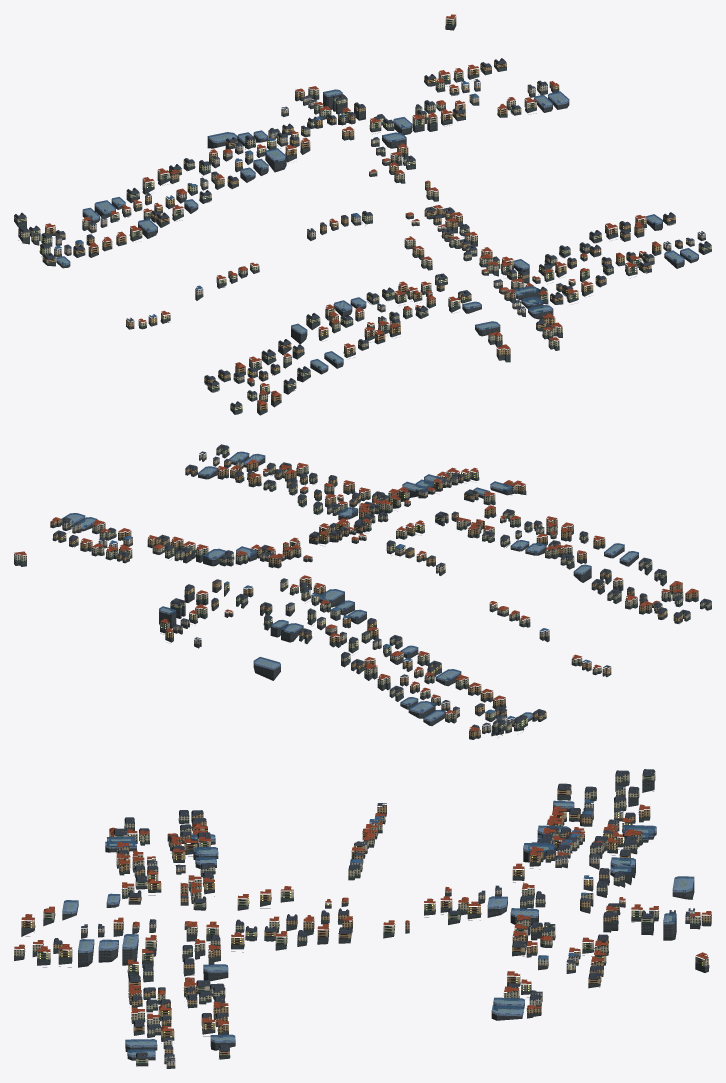
The model's file is osm_buildings_T_E02_S01_Q3.glb.
3 renders of one model, top to bottom at view 1: azimuth 30°, elevation 25°; view 2: azimuth 150°, elevation 25°; view 3: azimuth 270°, elevation 25°, orthographic. The views are drawn at different scales.
Visible parts, largest first — view 1: OSM_T_E02_S01_Q3_foundation, OSM_T_E02_S01_Q3_wall_cream_stucco, OSM_T_E02_S01_Q3_wall_french_ochre, OSM_T_E02_S01_Q3_greenhouse_blend, OSM_T_E02_S01_Q3_roof_terracotta, OSM_T_E02_S01_Q3_roof_mansard_slate, OSM_T_E02_S01_Q3_roof_mansard_deck, OSM_T_E02_S01_Q3_roof_mint_metal, OSM_T_E02_S01_Q3_balcony_railing, OSM_T_E02_S01_Q3_wall_warm_white, OSM_T_E02_S01_Q3_window_emissive_warm, OSM_T_E02_S01_Q3_wall_pastel_sand (+1 smaller); view 2: OSM_T_E02_S01_Q3_foundation, OSM_T_E02_S01_Q3_wall_cream_stucco, OSM_T_E02_S01_Q3_wall_french_ochre, OSM_T_E02_S01_Q3_roof_terracotta, OSM_T_E02_S01_Q3_greenhouse_blend, OSM_T_E02_S01_Q3_roof_mansard_slate, OSM_T_E02_S01_Q3_roof_mansard_deck, OSM_T_E02_S01_Q3_roof_mint_metal, OSM_T_E02_S01_Q3_wall_warm_white, OSM_T_E02_S01_Q3_wall_pastel_sand, OSM_T_E02_S01_Q3_window_emissive_warm, OSM_T_E02_S01_Q3_trim_cornice (+1 smaller); view 3: OSM_T_E02_S01_Q3_foundation, OSM_T_E02_S01_Q3_wall_cream_stucco, OSM_T_E02_S01_Q3_wall_french_ochre, OSM_T_E02_S01_Q3_roof_terracotta, OSM_T_E02_S01_Q3_greenhouse_blend, OSM_T_E02_S01_Q3_roof_mansard_slate, OSM_T_E02_S01_Q3_roof_mansard_deck, OSM_T_E02_S01_Q3_trim_cornice, OSM_T_E02_S01_Q3_roof_mint_metal, OSM_T_E02_S01_Q3_window_emissive_warm, OSM_T_E02_S01_Q3_wall_warm_white, OSM_T_E02_S01_Q3_balcony_railing (+1 smaller).
Boxes of the visible parts, bbox=[...] form: OSM_T_E02_S01_Q3_foundation: bbox=[14, 21, 711, 415]; OSM_T_E02_S01_Q3_wall_cream_stucco: bbox=[14, 16, 711, 410]; OSM_T_E02_S01_Q3_wall_french_ochre: bbox=[42, 60, 682, 410]; OSM_T_E02_S01_Q3_greenhouse_blend: bbox=[56, 89, 698, 370]; OSM_T_E02_S01_Q3_roof_terracotta: bbox=[45, 14, 660, 405]; OSM_T_E02_S01_Q3_roof_mansard_slate: bbox=[14, 58, 711, 406]; OSM_T_E02_S01_Q3_roof_mansard_deck: bbox=[15, 58, 710, 404]; OSM_T_E02_S01_Q3_roof_mint_metal: bbox=[14, 26, 710, 412]; OSM_T_E02_S01_Q3_balcony_railing: bbox=[14, 19, 702, 414]; OSM_T_E02_S01_Q3_wall_warm_white: bbox=[54, 80, 547, 322]; OSM_T_E02_S01_Q3_window_emissive_warm: bbox=[15, 64, 702, 408]; OSM_T_E02_S01_Q3_wall_pastel_sand: bbox=[88, 85, 705, 312]; OSM_T_E02_S01_Q3_foundation: bbox=[14, 451, 711, 739]; OSM_T_E02_S01_Q3_wall_cream_stucco: bbox=[14, 448, 711, 730]; OSM_T_E02_S01_Q3_wall_french_ochre: bbox=[50, 460, 698, 737]; OSM_T_E02_S01_Q3_roof_terracotta: bbox=[14, 447, 698, 731]; OSM_T_E02_S01_Q3_greenhouse_blend: bbox=[61, 451, 638, 721]; OSM_T_E02_S01_Q3_roof_mansard_slate: bbox=[53, 446, 711, 727]; OSM_T_E02_S01_Q3_roof_mansard_deck: bbox=[55, 444, 709, 727]; OSM_T_E02_S01_Q3_roof_mint_metal: bbox=[16, 452, 711, 737]; OSM_T_E02_S01_Q3_wall_warm_white: bbox=[62, 491, 549, 731]; OSM_T_E02_S01_Q3_wall_pastel_sand: bbox=[72, 453, 521, 714]; OSM_T_E02_S01_Q3_window_emissive_warm: bbox=[62, 450, 681, 729]; OSM_T_E02_S01_Q3_trim_cornice: bbox=[15, 449, 710, 737]; OSM_T_E02_S01_Q3_foundation: bbox=[14, 776, 711, 1068]; OSM_T_E02_S01_Q3_wall_cream_stucco: bbox=[14, 772, 708, 1063]; OSM_T_E02_S01_Q3_wall_french_ochre: bbox=[21, 787, 711, 1055]; OSM_T_E02_S01_Q3_roof_terracotta: bbox=[14, 771, 711, 1055]; OSM_T_E02_S01_Q3_greenhouse_blend: bbox=[62, 800, 694, 1057]; OSM_T_E02_S01_Q3_roof_mansard_slate: bbox=[53, 769, 694, 1060]; OSM_T_E02_S01_Q3_roof_mansard_deck: bbox=[54, 769, 693, 1057]; OSM_T_E02_S01_Q3_trim_cornice: bbox=[16, 772, 710, 1066]; OSM_T_E02_S01_Q3_roof_mint_metal: bbox=[14, 783, 710, 1063]; OSM_T_E02_S01_Q3_window_emissive_warm: bbox=[30, 804, 702, 1053]; OSM_T_E02_S01_Q3_wall_warm_white: bbox=[147, 803, 691, 1006]; OSM_T_E02_S01_Q3_balcony_railing: bbox=[23, 802, 711, 1035].
Size of the model in its own units: 949 by 214 by 927.
16 materials, 16 textured.
